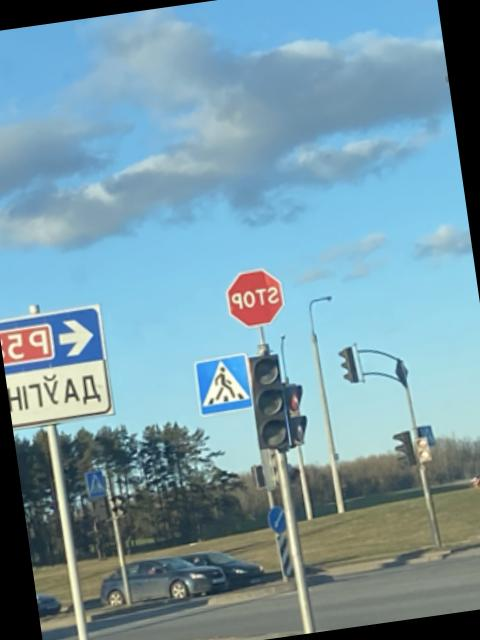crosswalk-sign: (193, 351, 257, 417), (87, 473, 108, 499)
